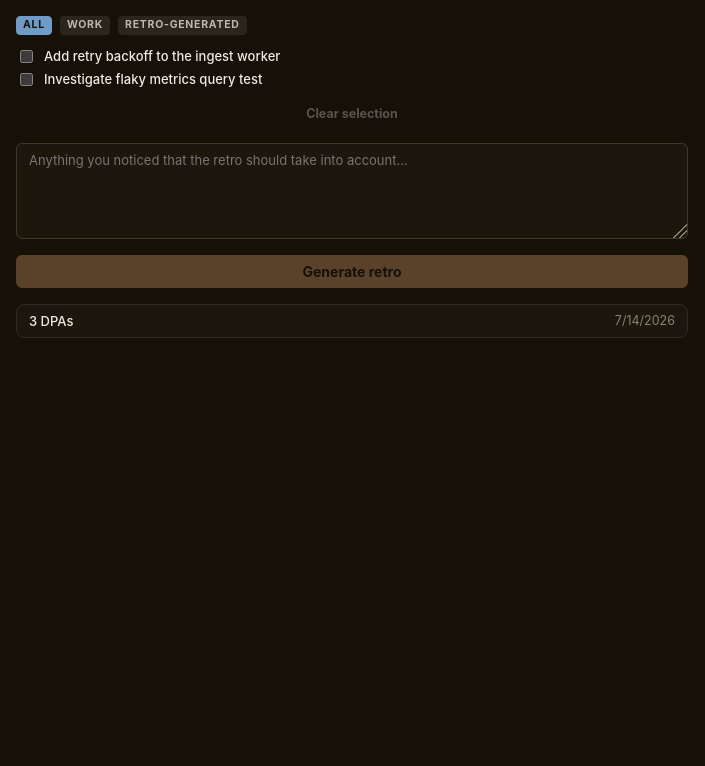
Test: RetroSurface › follow-up CTA: creating a follow-up session surfaces the created session/tasks
Click the text "3 DPAs" at (51, 320), box [29,312,74,328]
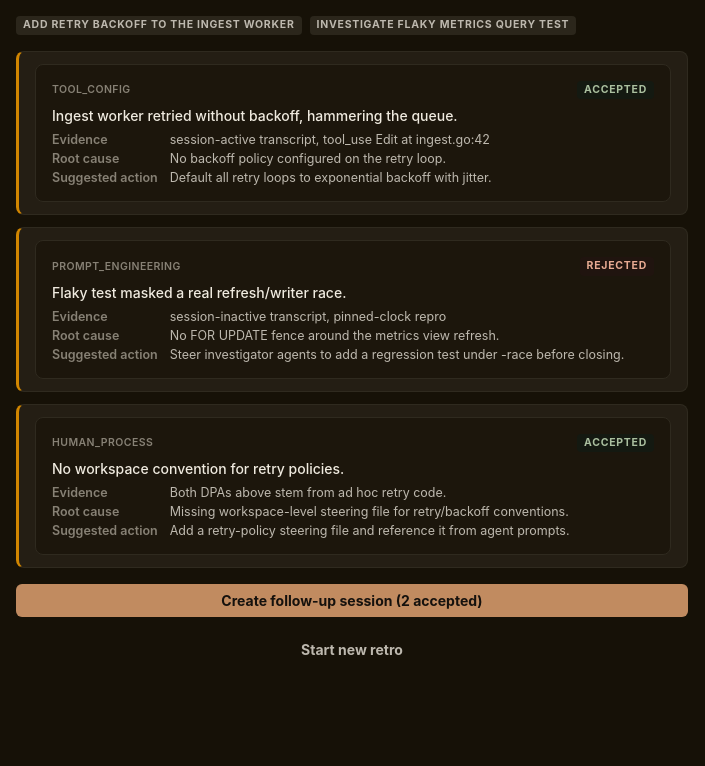
Expected: the button "Create follow-up session (2 accepted)" is shown
Click the button "Create follow-up session (2 accepted)" at (352, 600), box [16,584,688,617]
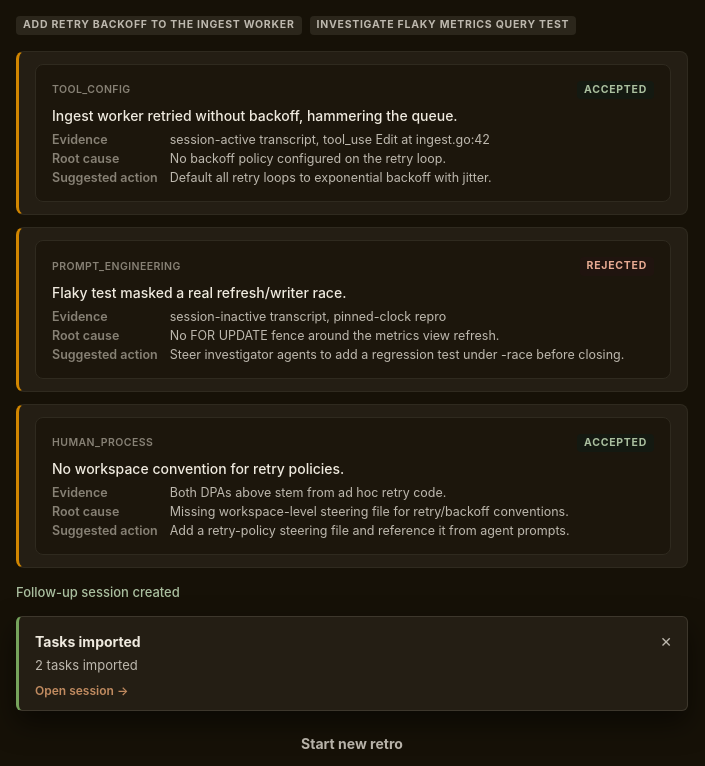
Expected: the text "Follow-up session created" is shown, [16,584,180,600]
Expected: the text "2 tasks imported" is shown, [35,657,138,673]
